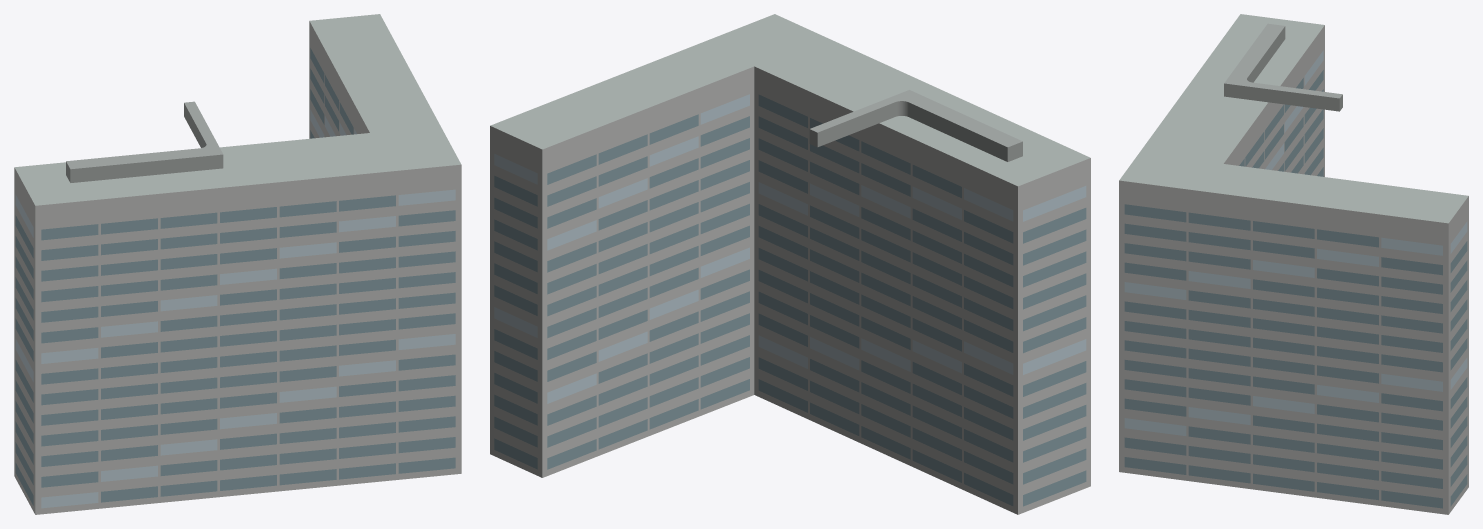
File: fallback-olympic-park-foreon-307.glb
3 renders of one model, left to right at view 1: azimuth 30°, elevation 25°; view 2: azimuth 150°, elevation 25°; view 3: azimuth 270°, elevation 25°, orthographic. The views are drawn at different scales.
Parts seen in each view (by area): view 1: fallback-olympic-park-foreon-307; view 2: fallback-olympic-park-foreon-307; view 3: fallback-olympic-park-foreon-307.
Part boxes in pixels (x1,y1,x2,y2): fallback-olympic-park-foreon-307: (14, 14, 461, 514); fallback-olympic-park-foreon-307: (490, 14, 1090, 514); fallback-olympic-park-foreon-307: (1119, 14, 1468, 514).
Bounding box in the file's own units: 70.48 × 47.81 × 49.74.
